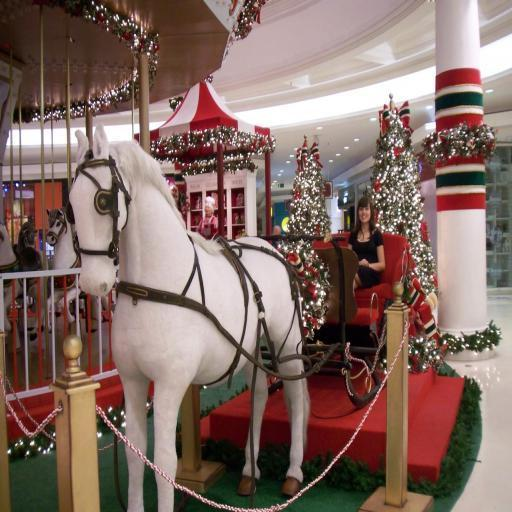horse: (68, 118, 314, 512), (44, 208, 112, 335), (0, 223, 51, 343), (15, 218, 39, 250)
